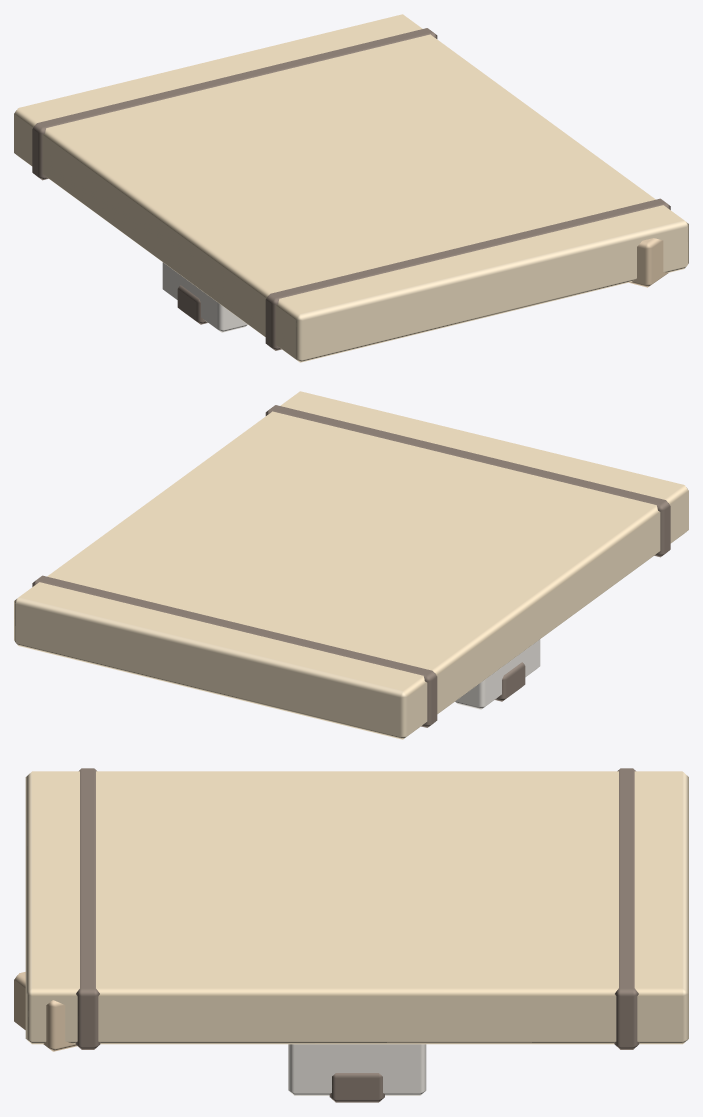
The model's file is mover_seesaw.glb.
The picture shows the model from 3 angles, top to bottom: view 1: azimuth 30°, elevation 25°; view 2: azimuth 150°, elevation 25°; view 3: azimuth 270°, elevation 25°; orthographic projection. The views are drawn at different scales.
Parts seen in each view (by area): view 1: mover_seesaw; view 2: mover_seesaw; view 3: mover_seesaw.
Part boxes in pixels (x1=…): mover_seesaw: x1=14, y1=14, x2=688, y2=362; mover_seesaw: x1=14, y1=391, x2=688, y2=739; mover_seesaw: x1=14, y1=768, x2=688, y2=1102.
Size of the model in its own units: 3.87 by 1.07 by 4.89.
